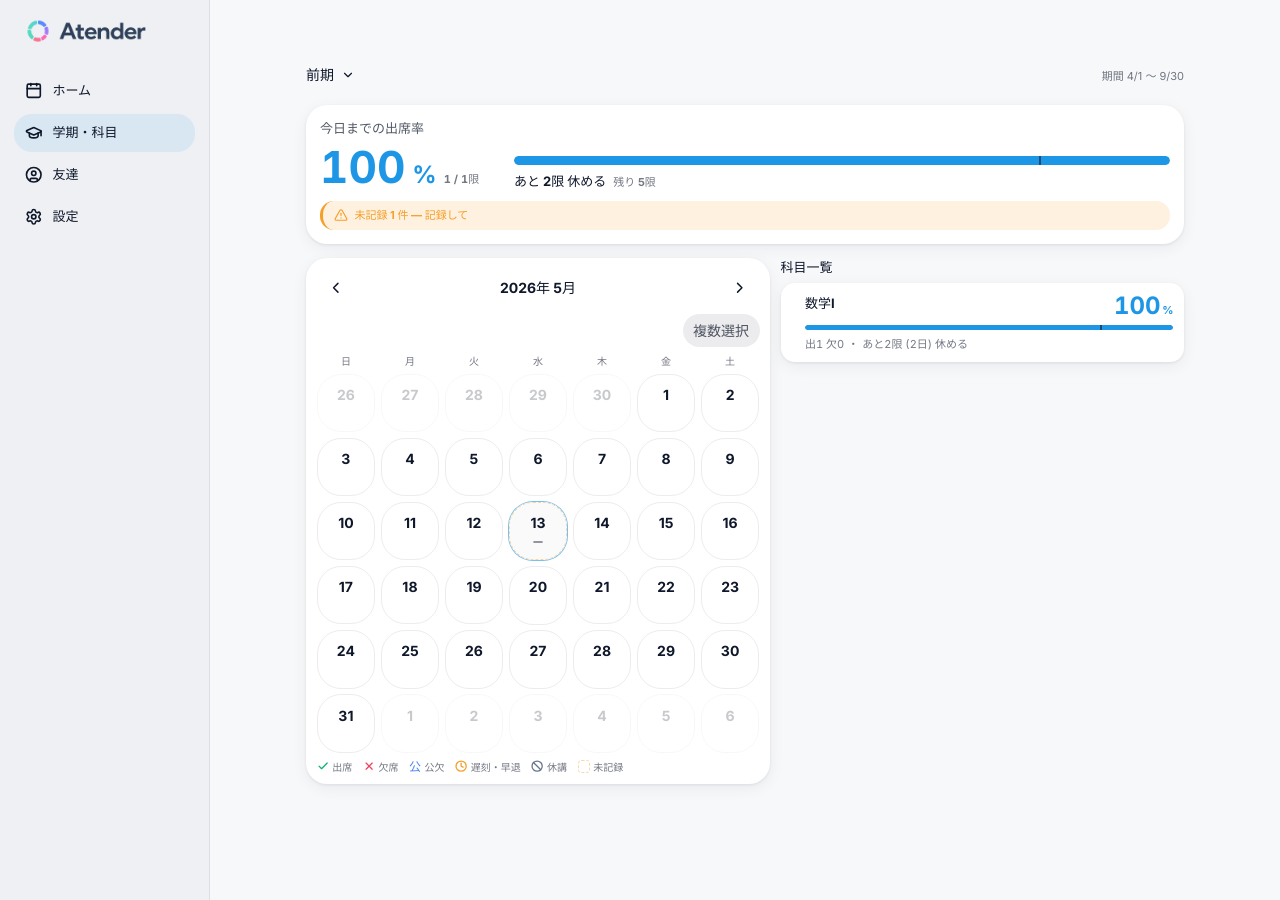
Test: [B21 AW6/AW7] 学期 (/semester) の日別シートと一括編集 › AW6: 日別シートに「予定」節が無く、授業 (出欠) は従来どおり出る
What coordinates should you click on to do the following:
click the button named "5月13日"
I would click on:
 (538, 531)
Its box is [509,502,567,560].
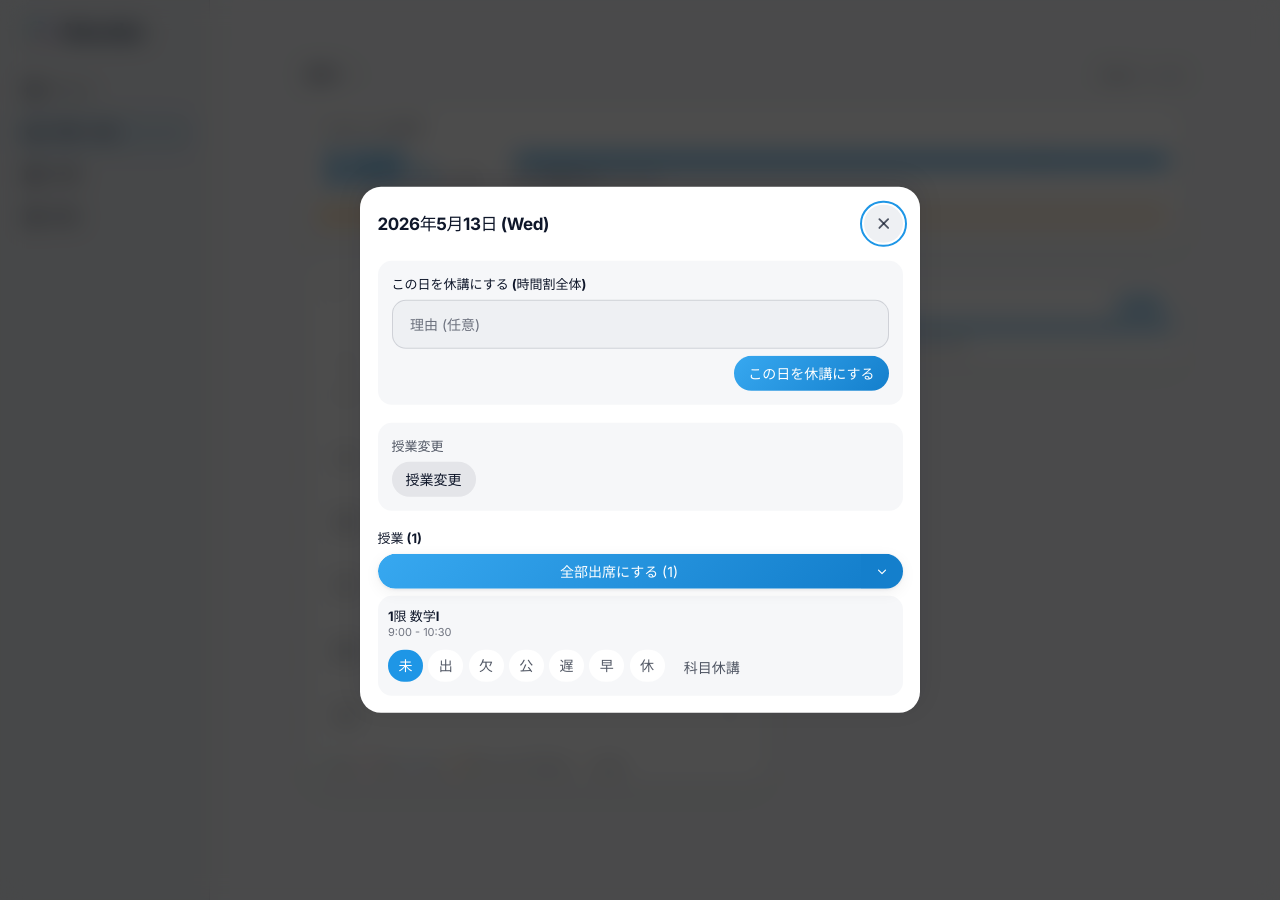
Expected: the heading "授業 (1)" is shown, [378,529,422,545]
Expected: the button "欠" is shown, [468,650,504,682]
